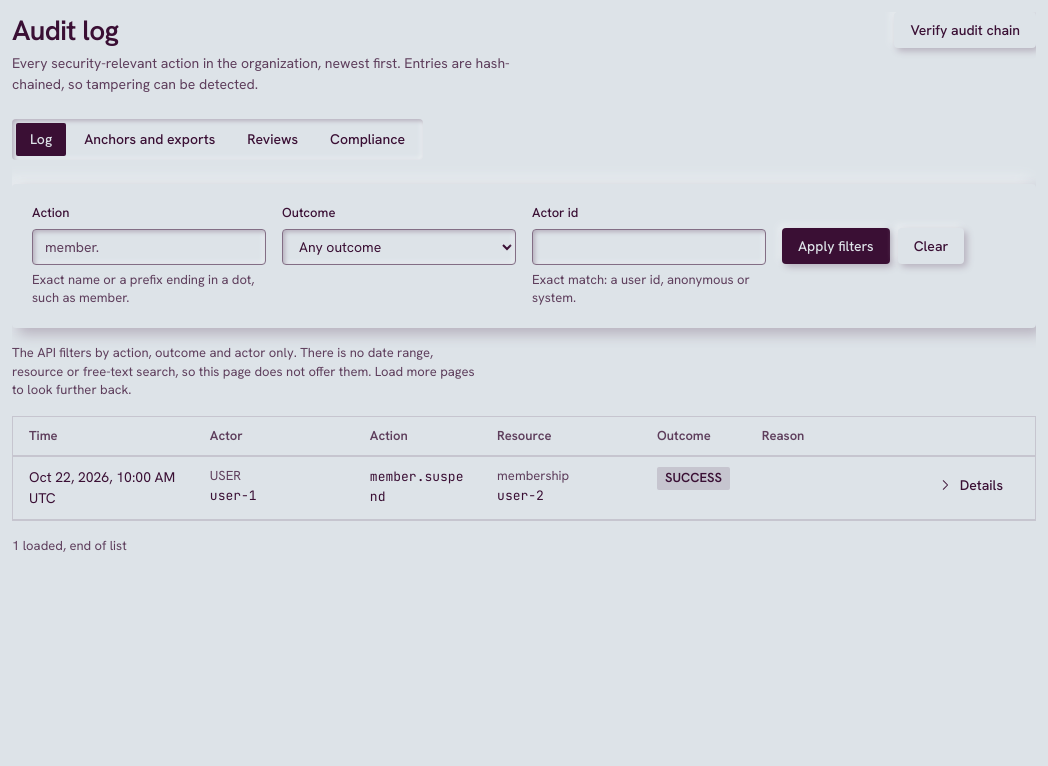
Scenario: AuditScreen › shows details as text, including the hash
What coordinates should you click on to do the following:
click the button "Details"
I would click on:
 (970, 485)
Its box is 922,467 -> 1019,503.
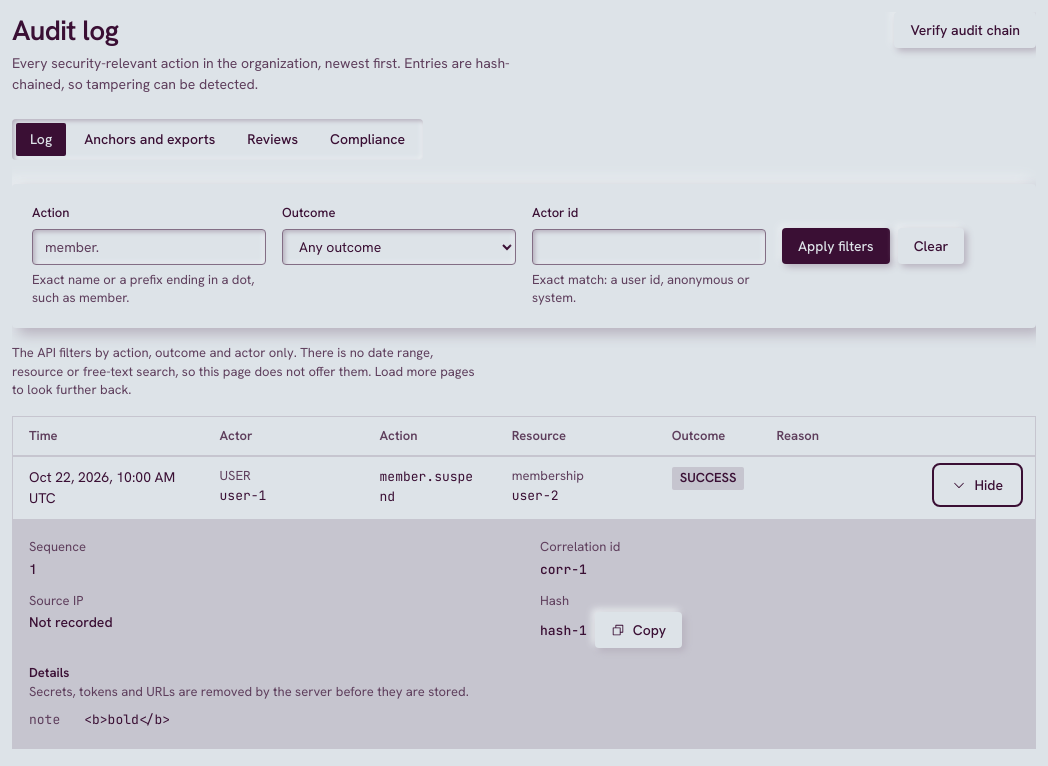
expect the text "corr-1" is shown: met, box 540,561 -> 587,578
expect the text "<b>bold</b>" is shown: met, box 84,710 -> 170,728
expect the text "hash-1" is shown: met, box 540,621 -> 587,640
